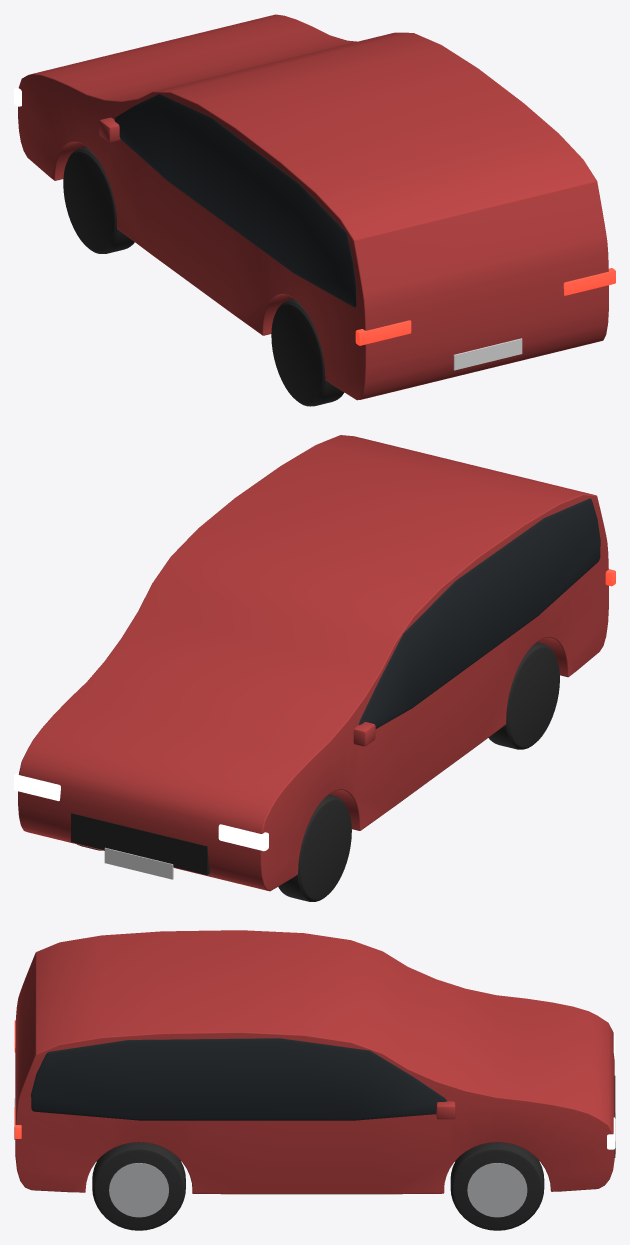
The model's file is car_suv.glb.
3 renders of one model, top to bottom at view 1: azimuth 30°, elevation 25°; view 2: azimuth 150°, elevation 25°; view 3: azimuth 270°, elevation 25°, orthographic. The views are drawn at different scales.
Parts seen in each view (by area): view 1: Body, Glass, Tyre, Tyre.002, PlateR, TailL, TailL.001; view 2: Body, Glass, Tyre.002, Tyre, Grille, PlateF, HeadL, HeadL.001; view 3: Body, Glass, Tyre.001, Tyre.003, Rim.003, Rim.001.
Part boxes in pixels (box(x1,y1,x2,y2)): Body: box(18, 14, 608, 400); Glass: box(114, 94, 356, 307); Tyre: box(271, 299, 344, 406); Tyre.002: box(63, 146, 134, 253); PlateR: box(453, 338, 522, 370); TailL: box(355, 320, 411, 345); TailL.001: box(563, 268, 615, 295); Body: box(18, 435, 608, 891); Glass: box(358, 498, 600, 728); Tyre.002: box(278, 794, 351, 901); Tyre: box(488, 642, 559, 749); Grille: box(71, 813, 209, 875); PlateF: box(104, 847, 173, 879); HeadL: box(218, 824, 268, 851); HeadL.001: box(14, 772, 60, 801); Body: box(15, 930, 614, 1194); Glass: box(31, 1038, 447, 1120); Tyre.001: box(92, 1142, 185, 1230); Tyre.003: box(450, 1142, 544, 1230); Rim.003: box(467, 1163, 527, 1217); Rim.001: box(109, 1163, 168, 1217).
Bounding box in the file's own units: 2.04 × 1.71 × 4.62.
